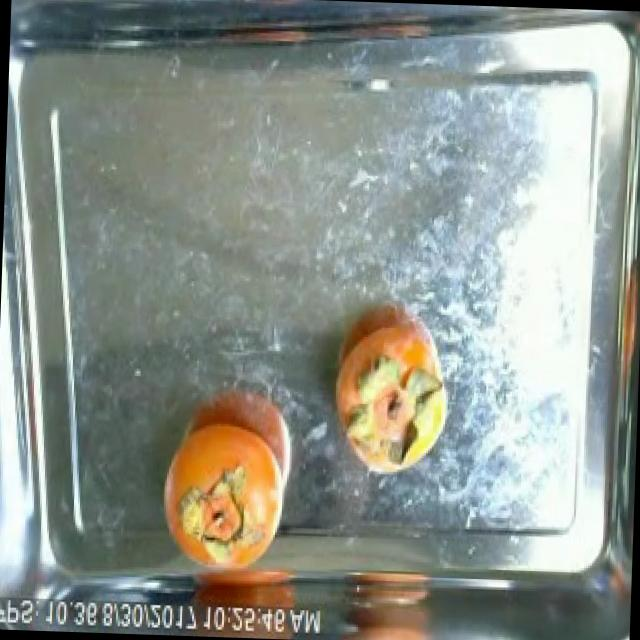Fruit: (324, 358, 458, 488)
